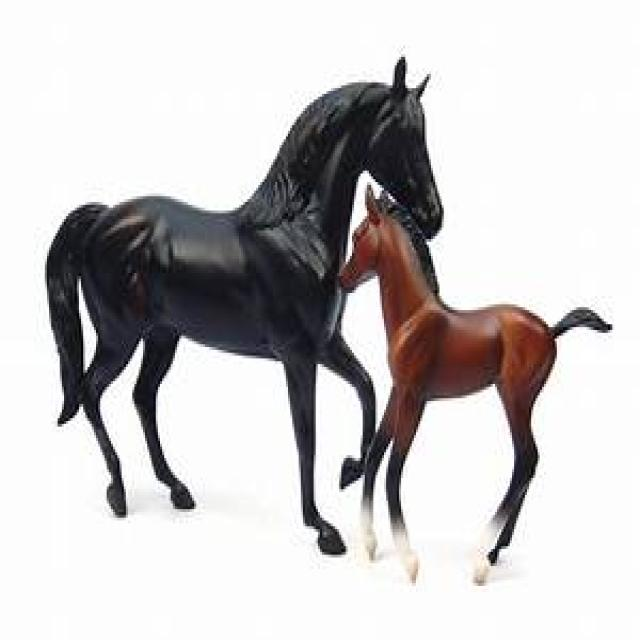animal: (48, 53, 442, 545), (338, 199, 616, 577)
